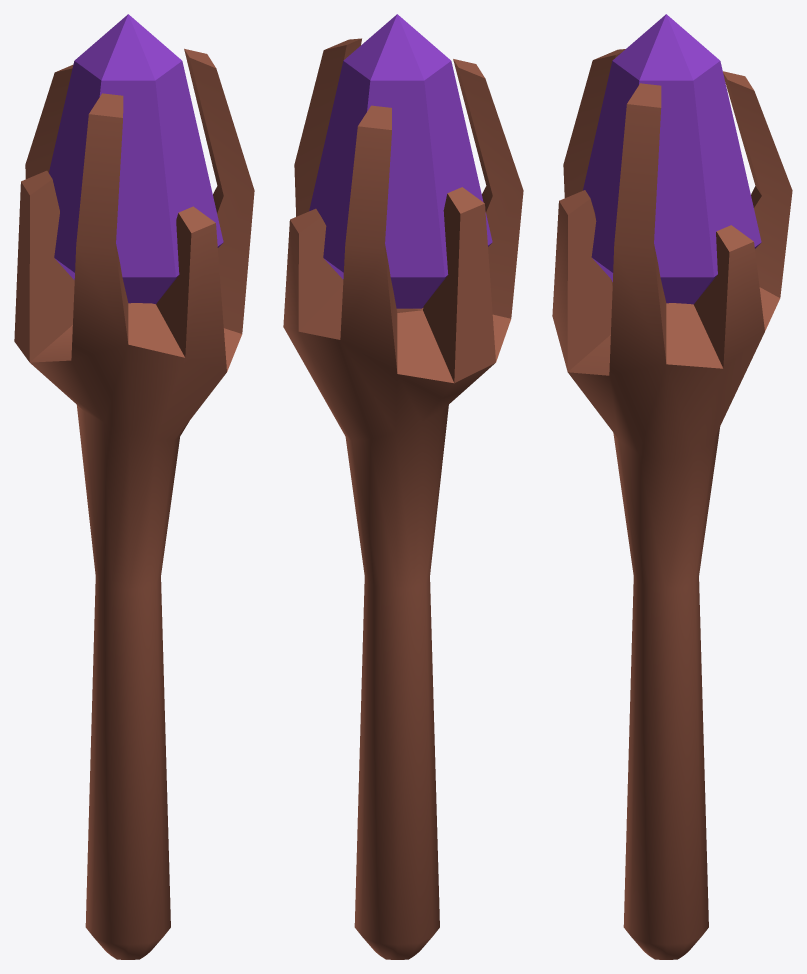
File: kaykit-staff-uncommon.glb
The picture shows the model from 3 angles, left to right: view 1: azimuth 30°, elevation 25°; view 2: azimuth 150°, elevation 25°; view 3: azimuth 270°, elevation 25°; orthographic projection.
Parts seen in each view (by area): view 1: staff_uncommon; view 2: staff_uncommon; view 3: staff_uncommon.
Part boxes in pixels (x1=…): staff_uncommon: x1=14, y1=14, x2=254, y2=959; staff_uncommon: x1=283, y1=14, x2=523, y2=959; staff_uncommon: x1=552, y1=14, x2=792, y2=959.
Size of the model in its own units: 0.2606 by 1.12 by 0.2606.
